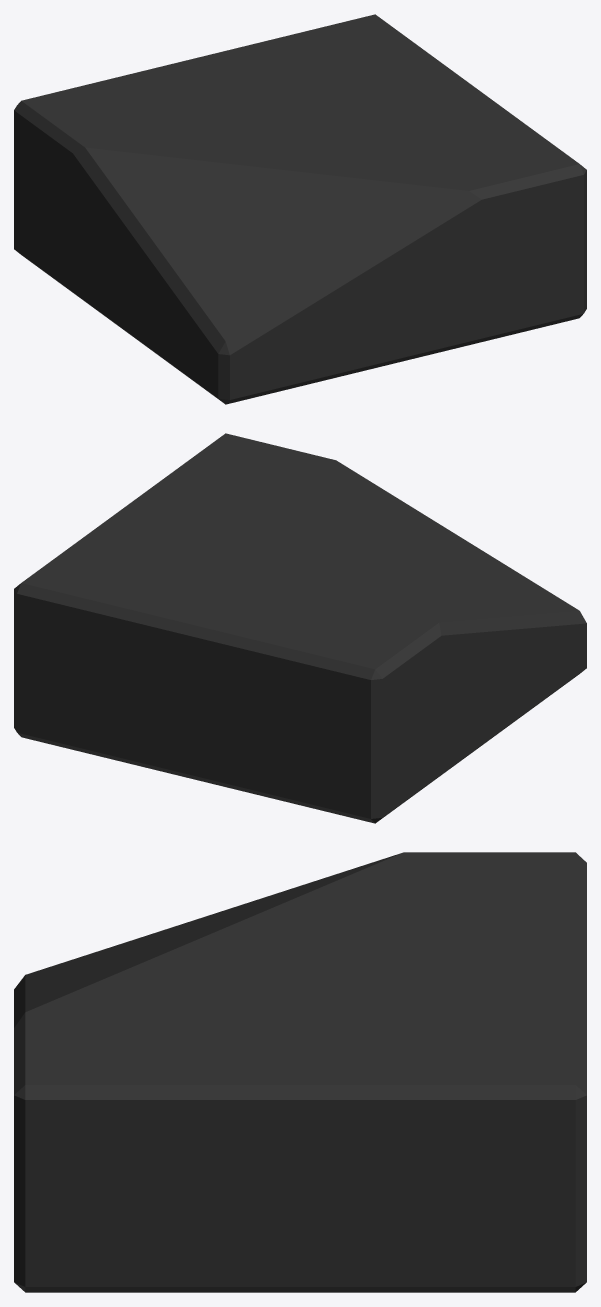
The model's file is HJD_SFB_ControlPanel_Corner.fbx.
The picture shows the model from 3 angles, top to bottom: view 1: azimuth 30°, elevation 25°; view 2: azimuth 150°, elevation 25°; view 3: azimuth 270°, elevation 25°; orthographic projection. The views are drawn at different scales.
Visible parts, largest first — view 1: HJD_SFB_Asset; view 2: HJD_SFB_Asset; view 3: HJD_SFB_Asset.
Part boxes in pixels (x1=…): HJD_SFB_Asset: x1=14, y1=14, x2=586, y2=404; HJD_SFB_Asset: x1=14, y1=433, x2=586, y2=823; HJD_SFB_Asset: x1=14, y1=852, x2=586, y2=1292.
Bounding box in the file's own units: 100 × 40 × 100.
